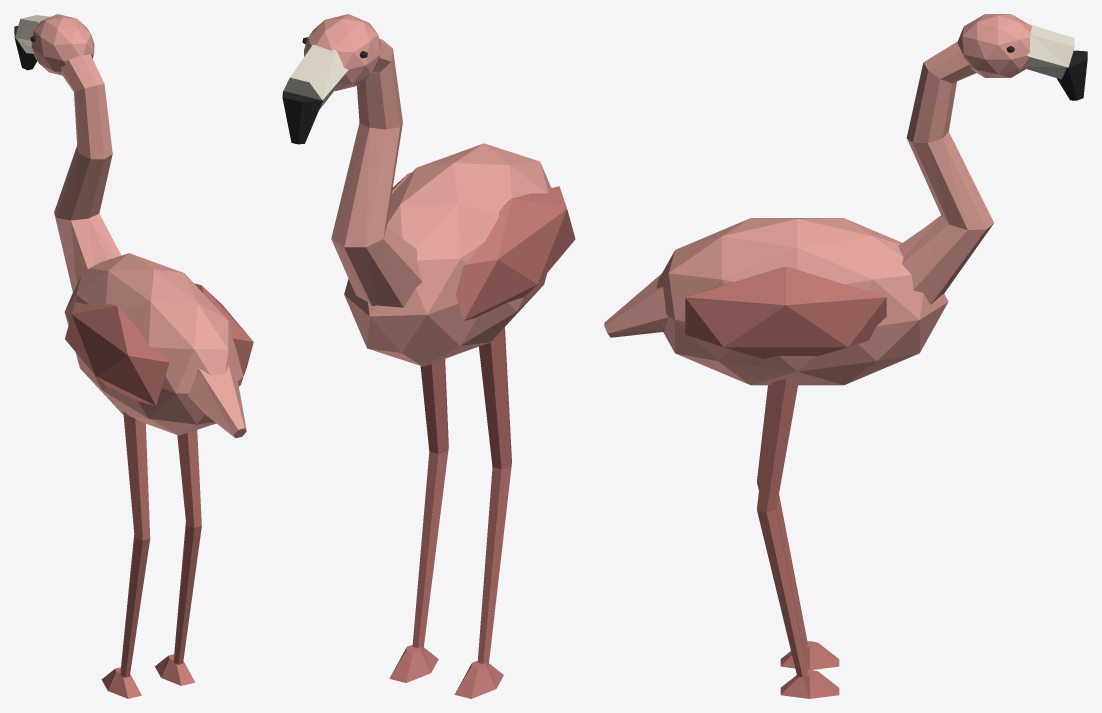
The model's file is flamingo.fbx.
3 views of the same model, side by side, from view 1: azimuth 30°, elevation 25°; view 2: azimuth 150°, elevation 25°; view 3: azimuth 270°, elevation 25° (orthographic). The views are drawn at different scales.
Visible parts, largest first — view 1: flamingo; view 2: flamingo; view 3: flamingo.
Part boxes in pixels (x1=…): flamingo: x1=14, y1=14, x2=253, y2=698; flamingo: x1=282, y1=14, x2=575, y2=698; flamingo: x1=604, y1=14, x2=1087, y2=698.
Bounding box in the file's own units: 0.3098 × 1.4 × 0.9266.
